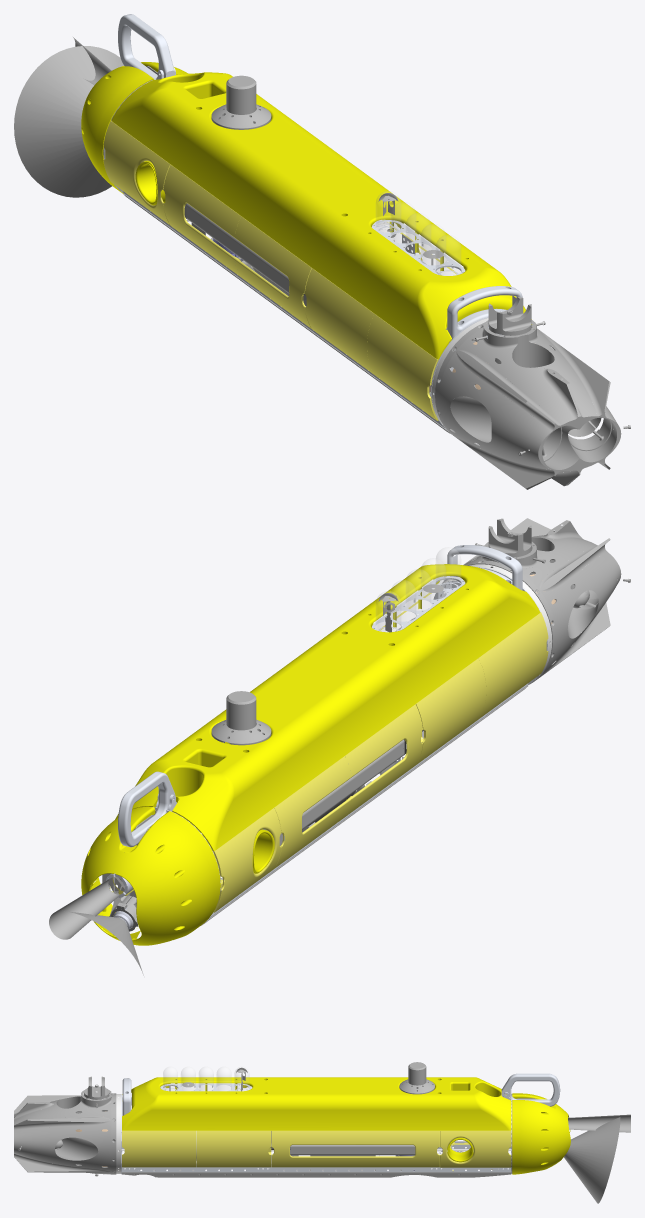
File: seeker-sidescan.glb
The picture shows the model from 3 angles, top to bottom: view 1: azimuth 30°, elevation 25°; view 2: azimuth 150°, elevation 25°; view 3: azimuth 270°, elevation 25°; orthographic projection. The views are drawn at different scales.
Parts seen in each view (by area): view 1: SK00003.SLDPRT; view 2: SK00003.SLDPRT; view 3: SK00003.SLDPRT.
Part boxes in pixels (bbox=[...]): SK00003.SLDPRT: bbox=[14, 14, 630, 489]; SK00003.SLDPRT: bbox=[49, 518, 630, 975]; SK00003.SLDPRT: bbox=[14, 1062, 630, 1203].
Bounding box in the file's own units: 0.2806 × 0.4556 × 1.9.
